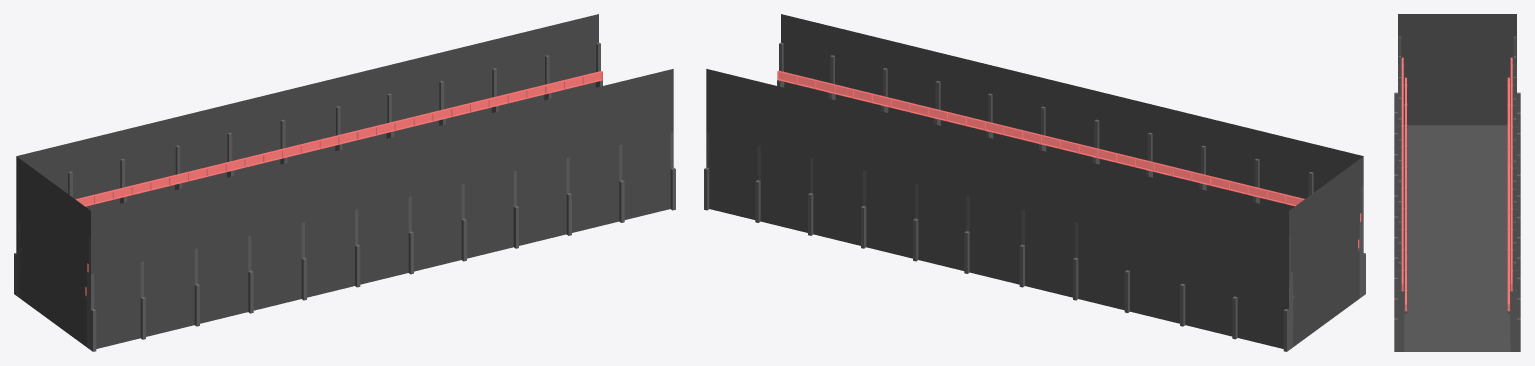
The model's file is 1p_3bay.glb.
The picture shows the model from 3 angles, left to right: view 1: azimuth 30°, elevation 25°; view 2: azimuth 150°, elevation 25°; view 3: azimuth 270°, elevation 25°; orthographic projection. The views are drawn at different scales.
Parts seen in each view (by area): view 1: 1P_3Bay, 3_Bay_Rail01, 3_Bay_Pillar02, 3_Bay_Pillar01, 3_Bay_Rail01_s; view 2: 1P_3Bay, 3_Bay_Rail03, 3_Bay_Pillar01, 3_Bay_Pillar02, 3_Bay_Rail01_s; view 3: 1P_3Bay, 3_Bay_Pillar02, 3_Bay_Pillar01, 3_Bay_Rail01, 3_Bay_Rail02, 3_Bay_Rail03, 3_Bay_Rail04, 3_Bay_Rail01_s.
Part boxes in pixels (box(x1,y1,x2,y2)): 1P_3Bay: box(16, 14, 673, 348); 3_Bay_Rail01: box(76, 71, 602, 206); 3_Bay_Pillar02: box(85, 132, 675, 351); 3_Bay_Pillar01: box(14, 42, 602, 297); 3_Bay_Rail01_s: box(75, 71, 601, 199); 1P_3Bay: box(706, 14, 1363, 348); 3_Bay_Rail03: box(777, 70, 1361, 221); 3_Bay_Pillar01: box(704, 132, 1295, 351); 3_Bay_Pillar02: box(777, 42, 1365, 298); 3_Bay_Rail01_s: box(779, 71, 1304, 199); 1P_3Bay: box(1398, 14, 1516, 351); 3_Bay_Pillar02: box(1394, 36, 1407, 351); 3_Bay_Pillar01: box(1507, 36, 1520, 351); 3_Bay_Rail01: box(1510, 57, 1512, 291); 3_Bay_Rail02: box(1507, 77, 1509, 311); 3_Bay_Rail03: box(1401, 57, 1403, 291); 3_Bay_Rail04: box(1405, 77, 1406, 311); 3_Bay_Rail01_s: box(1402, 59, 1511, 283).
Bounding box in the file's own units: 180 × 41.18 × 42.28.
